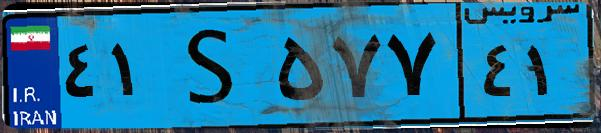1: (525, 38, 570, 115), (110, 28, 158, 98)
4: (57, 26, 110, 100), (475, 38, 525, 113)
5: (270, 28, 330, 110)
7: (385, 28, 445, 110), (330, 28, 385, 110)
S: (158, 12, 270, 120)
